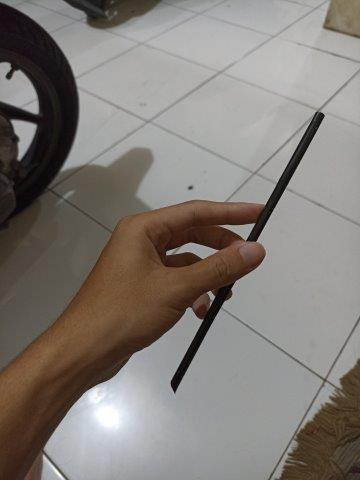sedotan: (172, 113, 325, 394)
